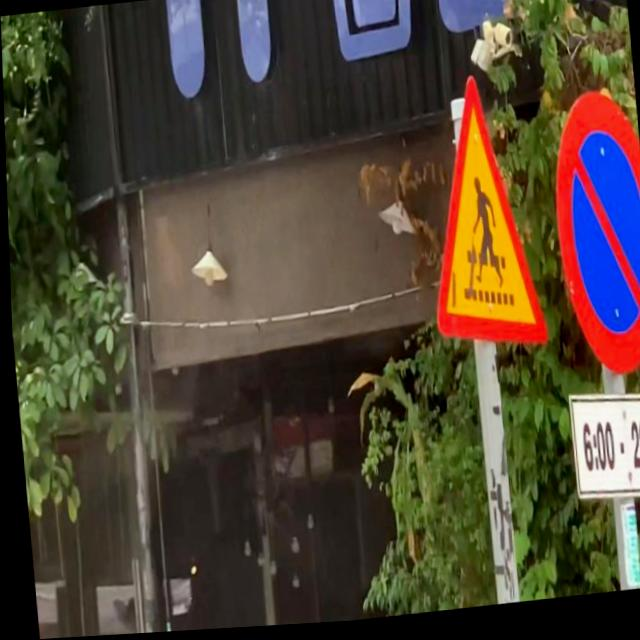Cam do xe: (544, 91, 640, 392)
Nguoi di bo cat ngang: (413, 70, 548, 365)
